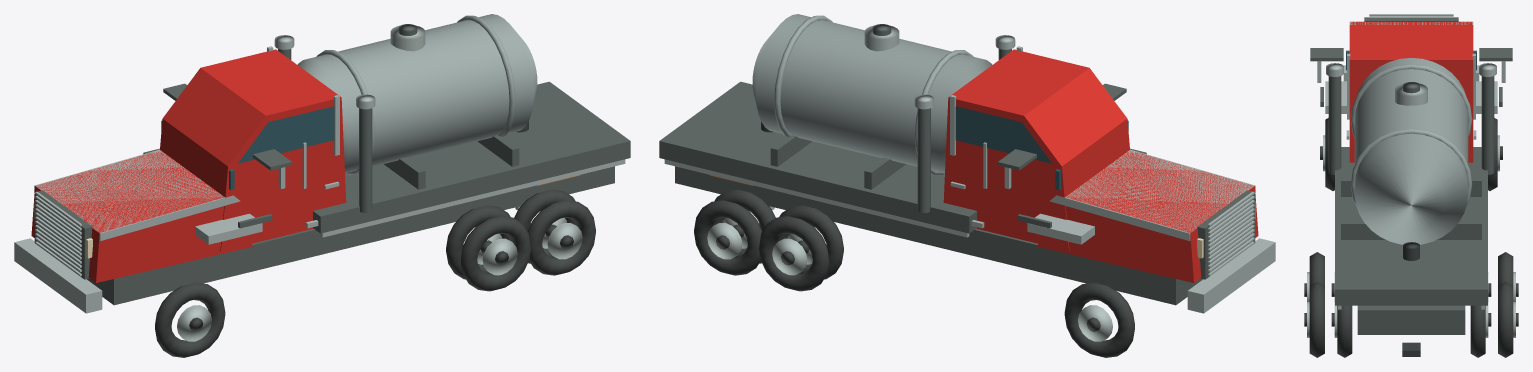
File: cargo-truck.glb
The picture shows the model from 3 angles, left to right: view 1: azimuth 30°, elevation 25°; view 2: azimuth 150°, elevation 25°; view 3: azimuth 270°, elevation 25°; orthographic projection. The views are drawn at different scales.
Visible parts, largest first — view 1: Tractocamión cisterna de derrame; view 2: Tractocamión cisterna de derrame; view 3: Tractocamión cisterna de derrame.
Part boxes in pixels (left/top/right/bottom): Tractocamión cisterna de derrame: left=14, top=14, right=630, bottom=357; Tractocamión cisterna de derrame: left=659, top=14, right=1275, bottom=357; Tractocamión cisterna de derrame: left=1304, top=14, right=1518, bottom=357.
Bounding box in the file's own units: 3 × 1.24 × 1.09.
